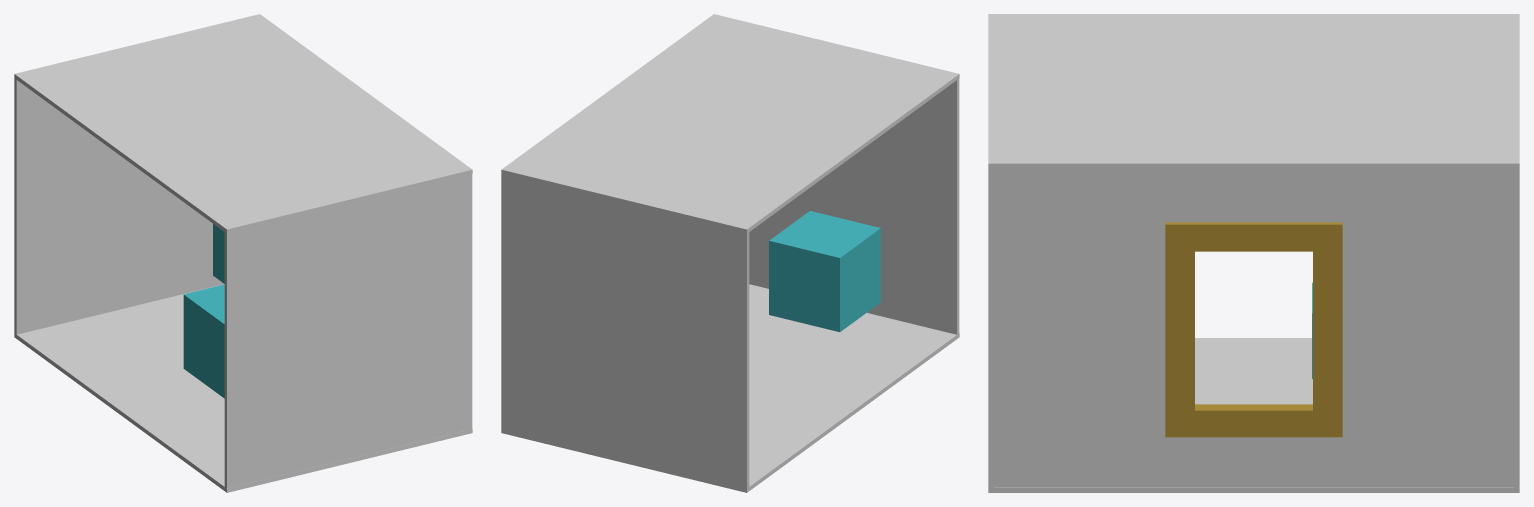
Rendered from Portal.glb.
3 renders of one model, left to right at view 1: azimuth 30°, elevation 25°; view 2: azimuth 150°, elevation 25°; view 3: azimuth 270°, elevation 25°, orthographic. The views are drawn at different scales.
Parts seen in each view (by area): view 1: Left, Top, Right, Bottom, SceneObjectCube, FrontLeft, SceneObjectCube (1); view 2: Right, Top, Left, Bottom, SceneObjectCube, FrontRight; view 3: Top, FrontRight, FrontLeft, Bottom, TopFront, BotFront, BotWin, TopWin, RtWin, LftWin, Left, Right.
Part boxes in pixels (left/top/right/bottom): Left: left=224, top=174, right=472, bottom=488; Top: left=14, top=14, right=472, bottom=233; Right: left=14, top=78, right=223, bottom=334; Bottom: left=14, top=284, right=472, bottom=492; SceneObjectCube: left=183, top=284, right=224, bottom=398; FrontLeft: left=468, top=173, right=471, bottom=431; SceneObjectCube (1): left=213, top=224, right=224, bottom=283; Right: left=501, top=173, right=749, bottom=488; Top: left=501, top=14, right=959, bottom=233; Left: left=749, top=78, right=959, bottom=335; Bottom: left=501, top=284, right=959, bottom=492; SceneObjectCube: left=769, top=211, right=880, bottom=332; FrontRight: left=502, top=173, right=505, bottom=382; Top: left=988, top=14, right=1519, bottom=168; FrontRight: left=1342, top=169, right=1513, bottom=487; FrontLeft: left=994, top=169, right=1165, bottom=487; Bottom: left=988, top=338, right=1519, bottom=492; TopFront: left=1165, top=169, right=1342, bottom=222; BotFront: left=1165, top=437, right=1342, bottom=487; BotWin: left=1165, top=404, right=1342, bottom=437; TopWin: left=1165, top=222, right=1342, bottom=251; RtWin: left=1313, top=250, right=1342, bottom=410; LftWin: left=1165, top=250, right=1194, bottom=410; Left: left=988, top=168, right=994, bottom=488; Right: left=1514, top=168, right=1519, bottom=488.
Bounding box in the file's own units: 1.21 × 1.23 × 1.8.
